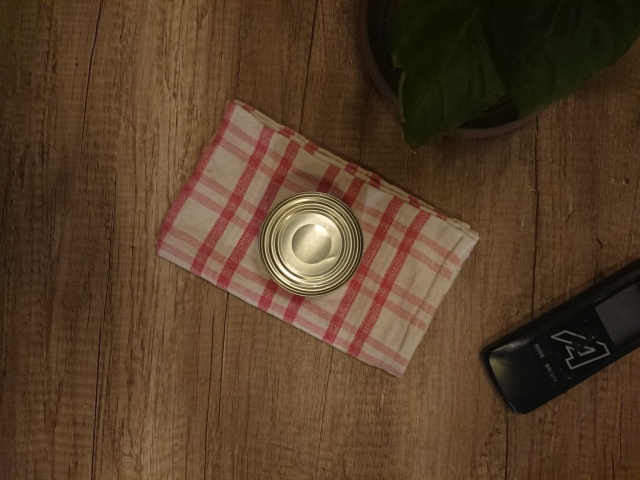Podravka Luncheon Meat 150g: (257, 189, 365, 299)
